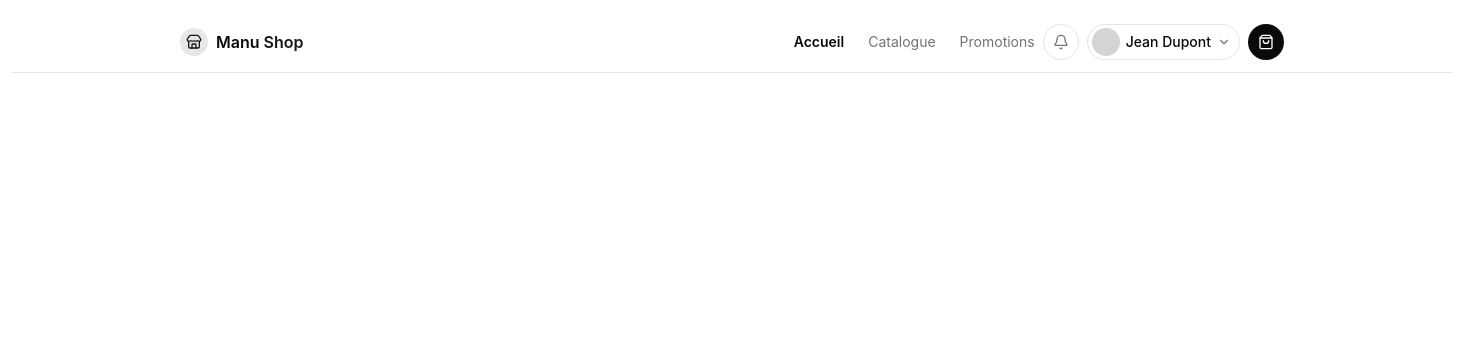
StorefrontHeader › shows the connected user's display name and photo once open
Expected: the text "Jean Dupont" is shown, [1126,32,1211,52]
Click the button with aria-label "Mon compte".
click(1163, 42)  # box [1087,24,1240,60]
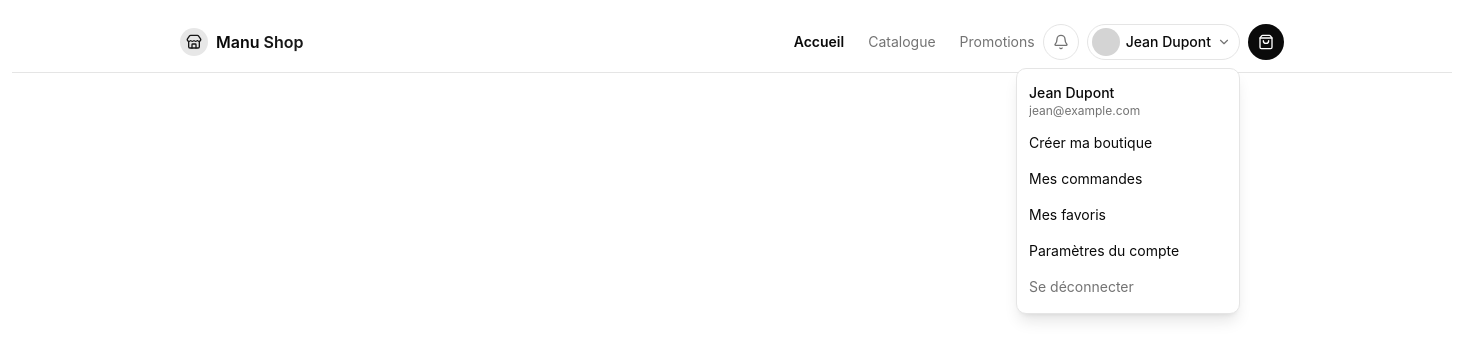
Expected: the text "jean@example.com" is shown, [1029,103,1140,118]
